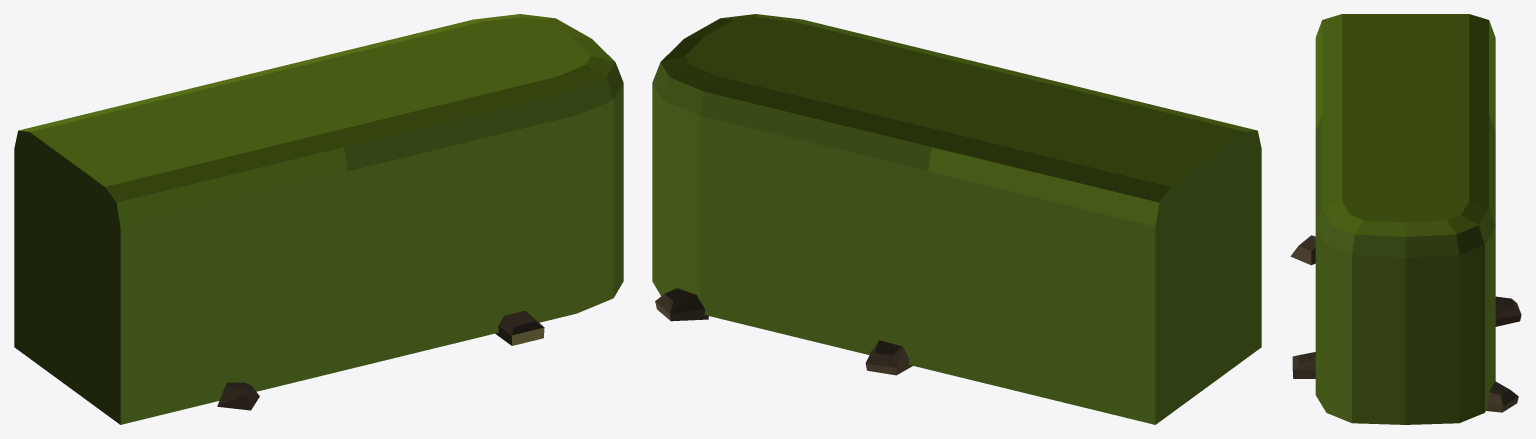
The model's file is city-decor07.fbx.
3 renders of one model, left to right at view 1: azimuth 30°, elevation 25°; view 2: azimuth 150°, elevation 25°; view 3: azimuth 270°, elevation 25°, orthographic. The views are drawn at different scales.
Parts seen in each view (by area): view 1: city-decor07; view 2: city-decor07; view 3: city-decor07.
Part boxes in pixels (x1,y1,x2,y2): city-decor07: [14, 14, 623, 424]; city-decor07: [652, 14, 1261, 424]; city-decor07: [1290, 14, 1521, 424].
Bounding box in the file's own units: 0.9814 × 0.4095 × 0.4361.
Materials: 1 (1 with a texture image).
